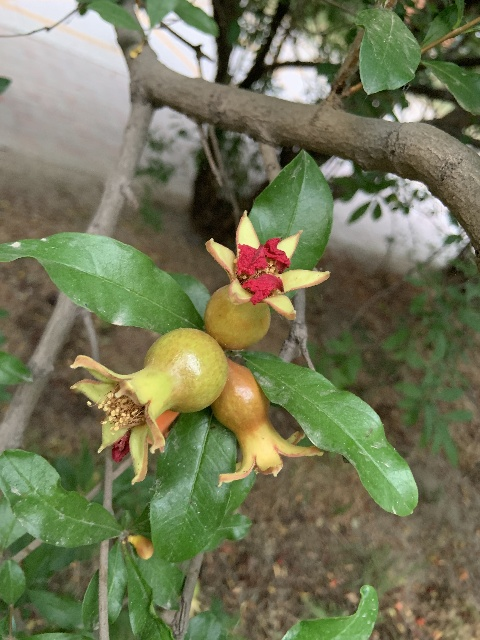bud: (127, 534, 153, 559)
early-fruit: (212, 359, 323, 485)
mid-growth: (67, 327, 226, 485), (203, 213, 330, 350)
